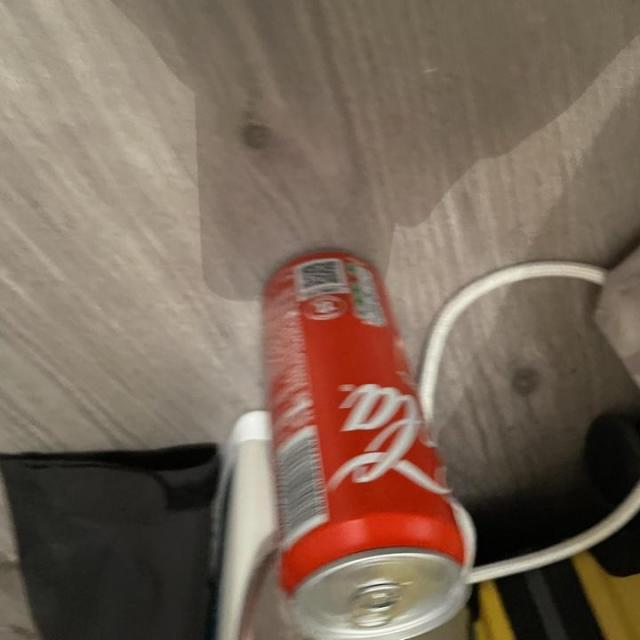can: (224, 225, 476, 638)
